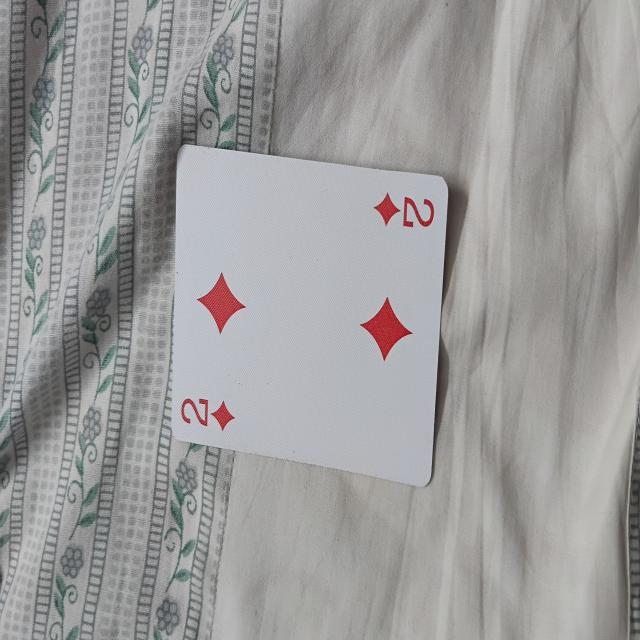2D: (168, 157, 452, 450)
